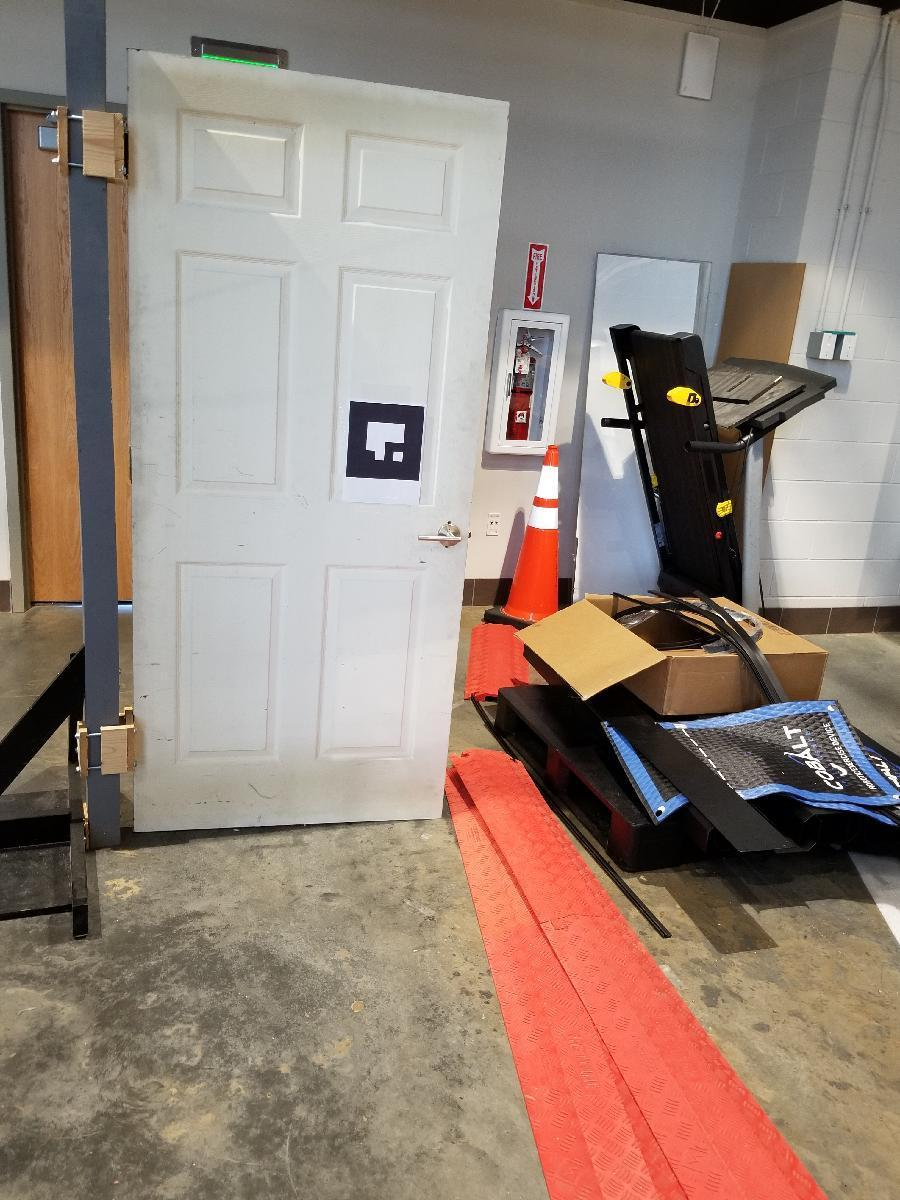door: (130, 48, 467, 827)
handle: (418, 518, 464, 552)
